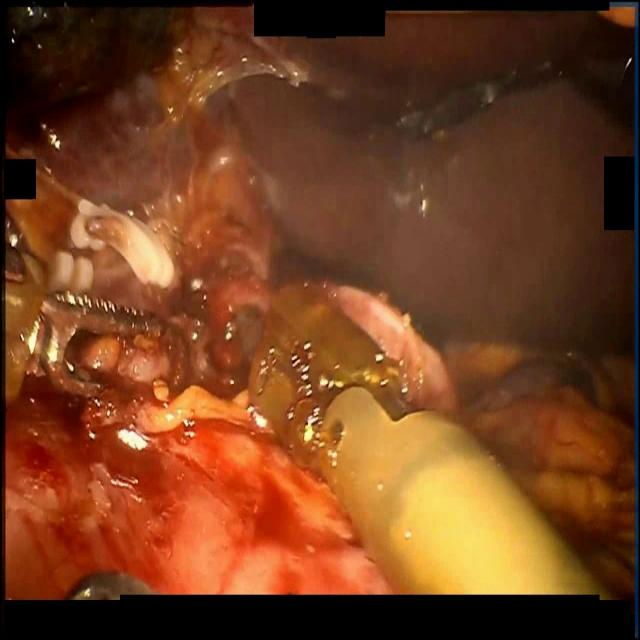surgical-area: (0, 0, 638, 600)
surgical-tool: (242, 271, 606, 596), (7, 210, 192, 403)
